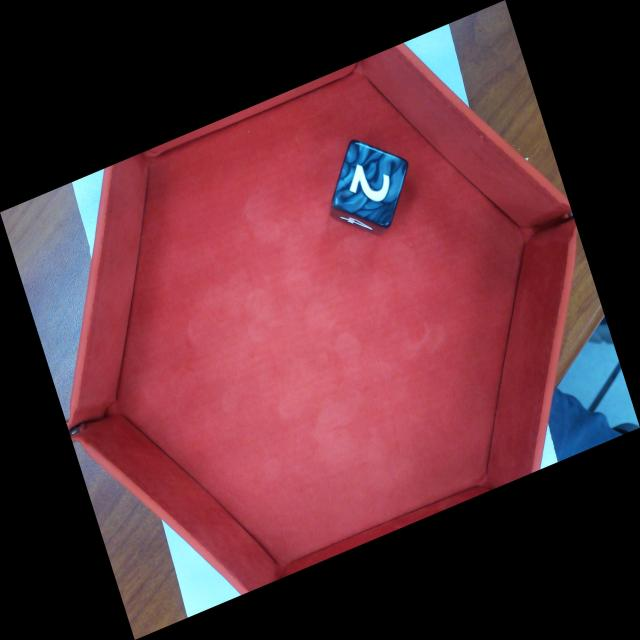dice: (334, 140, 410, 225)
